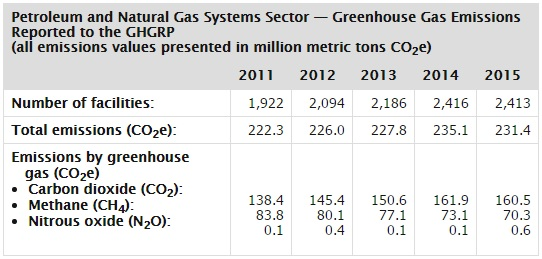fracking table: (4, 4, 539, 256)
